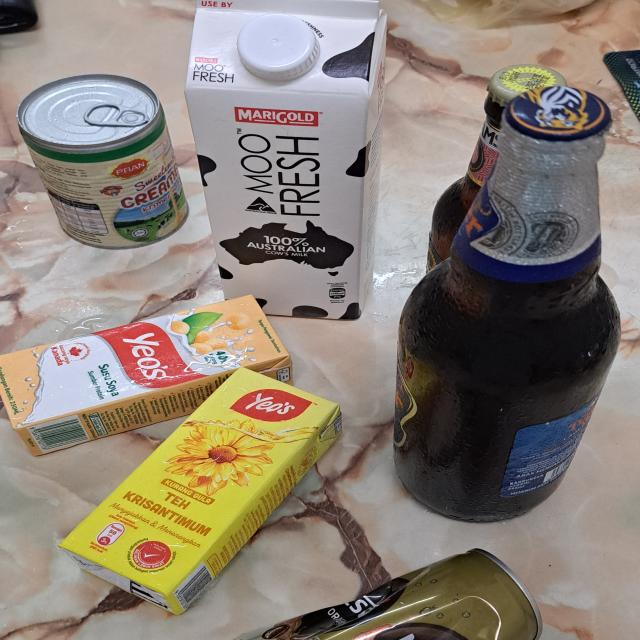can: (12, 72, 186, 250), (253, 550, 548, 640)
drink carton: (52, 366, 346, 620), (181, 0, 388, 323), (0, 294, 294, 462)
glass bottle: (392, 84, 622, 524), (421, 61, 570, 280)
pop tab: (83, 103, 149, 127)
